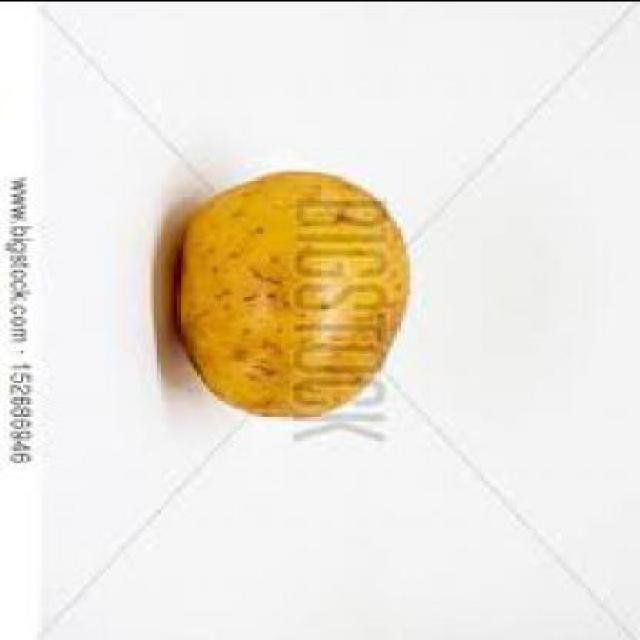BIODEGRADABLE: (180, 166, 411, 412)
